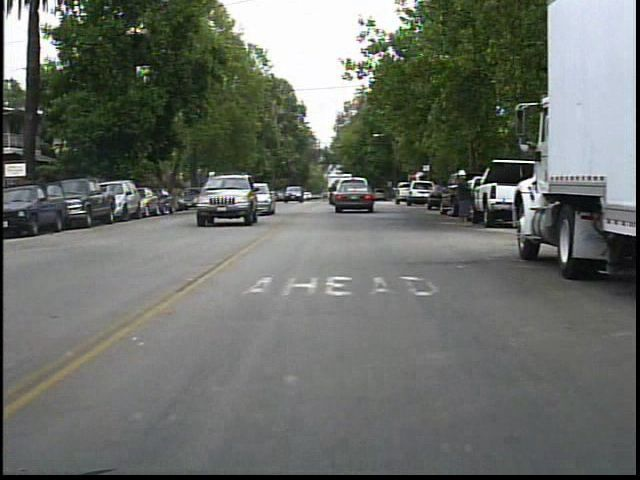person: (450, 166, 479, 228)
